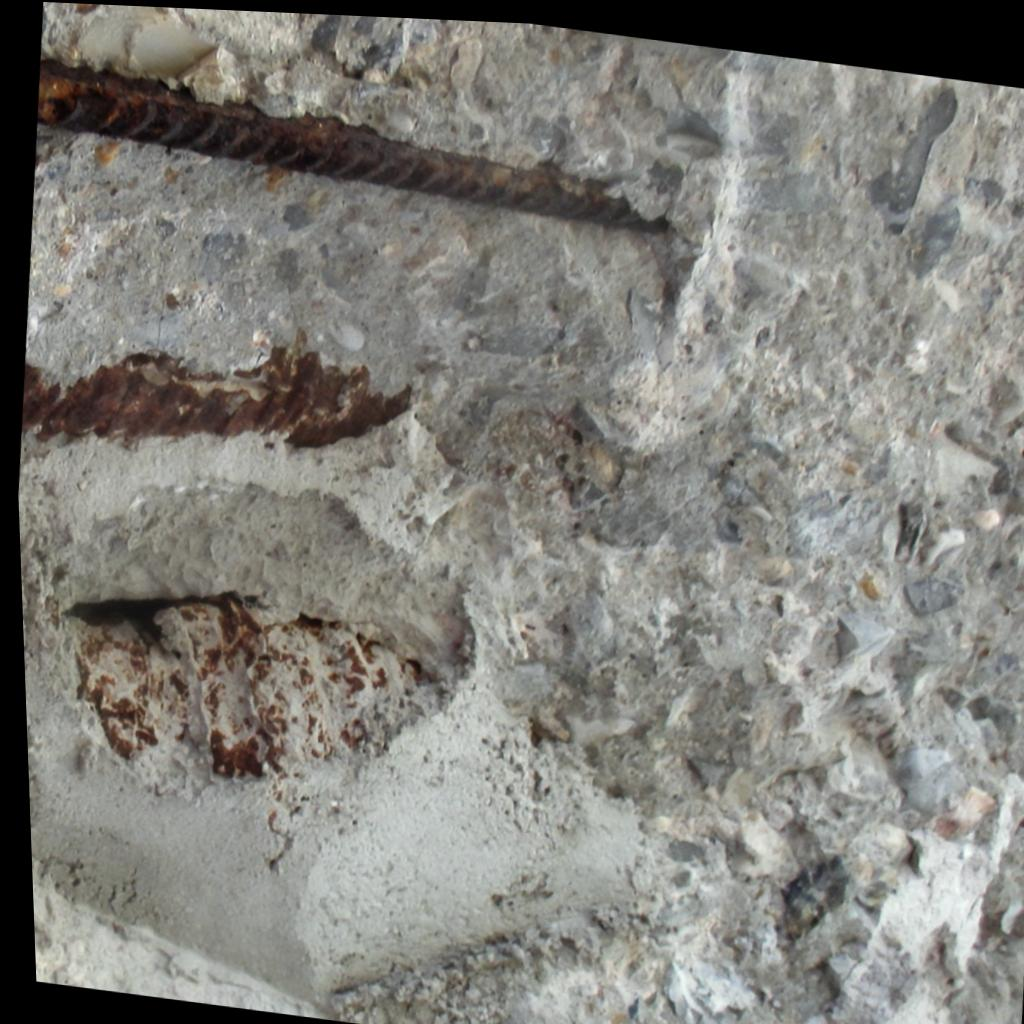exposed_rebar: (37, 61, 665, 230), (21, 346, 410, 447)
